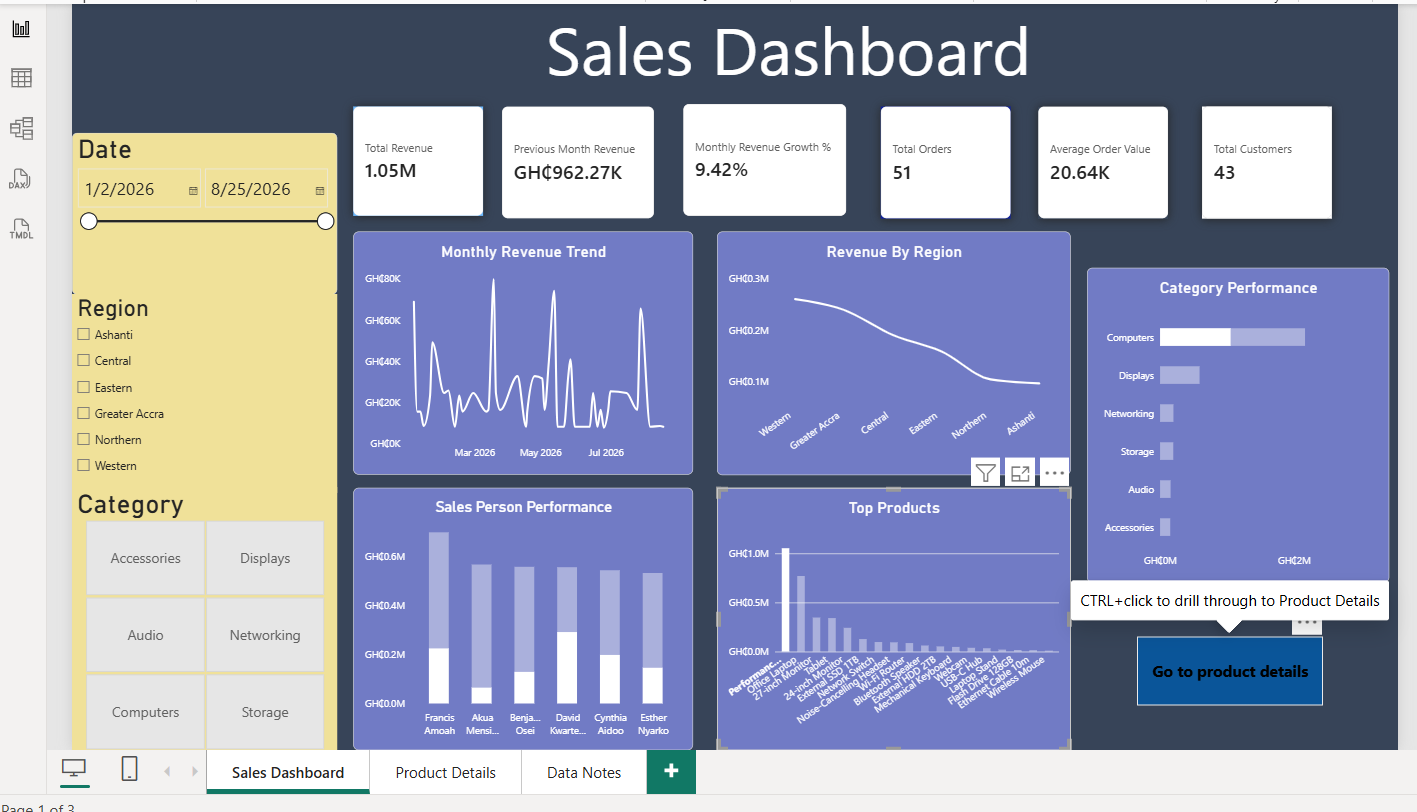

The page's visual inventory and layout, read from the dashboard file:
{"tool":"powerbi","page":{"name":"Sales Dashboard","canvas":[1920,1080],"ordinal":0},"visuals":[{"type":"cardVisual","title":"Total Revenue","fields":{"Data":["orders.Total Revenue"]},"box":[1466,290,188,158],"z":0},{"type":"cardVisual","fields":{"Data":["orders.Total Orders"]},"box":[1696,290,188,158],"z":1000},{"type":"cardVisual","fields":{"Data":["orders.Average Order Value"]},"box":[1466,486,188,156],"z":2000},{"type":"cardVisual","fields":{"Data":["orders.Total Customers"]},"box":[1696,486,188,156],"z":3000},{"type":"slicer","fields":{"Values":["orders.OrderDate"]},"box":[0,160,384,234],"z":4000},{"type":"slicer","fields":{"Values":["products.Category"]},"box":[0,682,384,380],"z":5000},{"type":"lineChart","title":"Monthly Revenue Trend","fields":{"Category":["orders.OrderDate.Variation.Date Hierarchy.Month"],"Y":["orders.Total Revenue"]},"box":[408,290,492,352],"z":6000},{"type":"slicer","fields":{"Values":["customers.Region"]},"box":[0,394,384,288],"z":7000},{"type":"lineChart","title":"Revenue By Region","fields":{"Category":["customers.Region"],"Y":["orders.Total Revenue"]},"box":[934,290,492,352],"z":8000},{"type":"clusteredColumnChart","title":"Top Products","fields":{"Category":["products.ProductName"],"Y":["orders.Total Revenue"]},"box":[934,682,492,380],"z":9000},{"type":"clusteredColumnChart","title":"Sales Person Performance","fields":{"Category":["orders.SalesPerson"],"Y":["orders.Total Revenue"]},"box":[408,682,492,380],"z":10000},{"type":"textbox","box":[656,140,766,138],"z":11000},{"type":"clusteredBarChart","title":"Category Performance","fields":{"Category":["products.Category"],"Y":["orders.Total Revenue"]},"box":[1462,682,436,380],"z":11001}]}

Visuals, with their boxes on the page's 1920x1080 design canvas (x1, y1, x2, y2). These are canvas units, not pixel positions in the 1417x812 screenshot, which may show the page scaled, cropped or inside an application window:
"Total Revenue" cardVisual: {"left": 1466, "top": 290, "right": 1654, "bottom": 448}
cardVisual - orders.Total Orders: {"left": 1696, "top": 290, "right": 1884, "bottom": 448}
cardVisual - orders.Average Order Value: {"left": 1466, "top": 486, "right": 1654, "bottom": 642}
cardVisual - orders.Total Customers: {"left": 1696, "top": 486, "right": 1884, "bottom": 642}
slicer - orders.OrderDate: {"left": 0, "top": 160, "right": 384, "bottom": 394}
slicer - products.Category: {"left": 0, "top": 682, "right": 384, "bottom": 1062}
"Monthly Revenue Trend" lineChart: {"left": 408, "top": 290, "right": 900, "bottom": 642}
slicer - customers.Region: {"left": 0, "top": 394, "right": 384, "bottom": 682}
"Revenue By Region" lineChart: {"left": 934, "top": 290, "right": 1426, "bottom": 642}
"Top Products" clusteredColumnChart: {"left": 934, "top": 682, "right": 1426, "bottom": 1062}
"Sales Person Performance" clusteredColumnChart: {"left": 408, "top": 682, "right": 900, "bottom": 1062}
textbox: {"left": 656, "top": 140, "right": 1422, "bottom": 278}
"Category Performance" clusteredBarChart: {"left": 1462, "top": 682, "right": 1898, "bottom": 1062}
